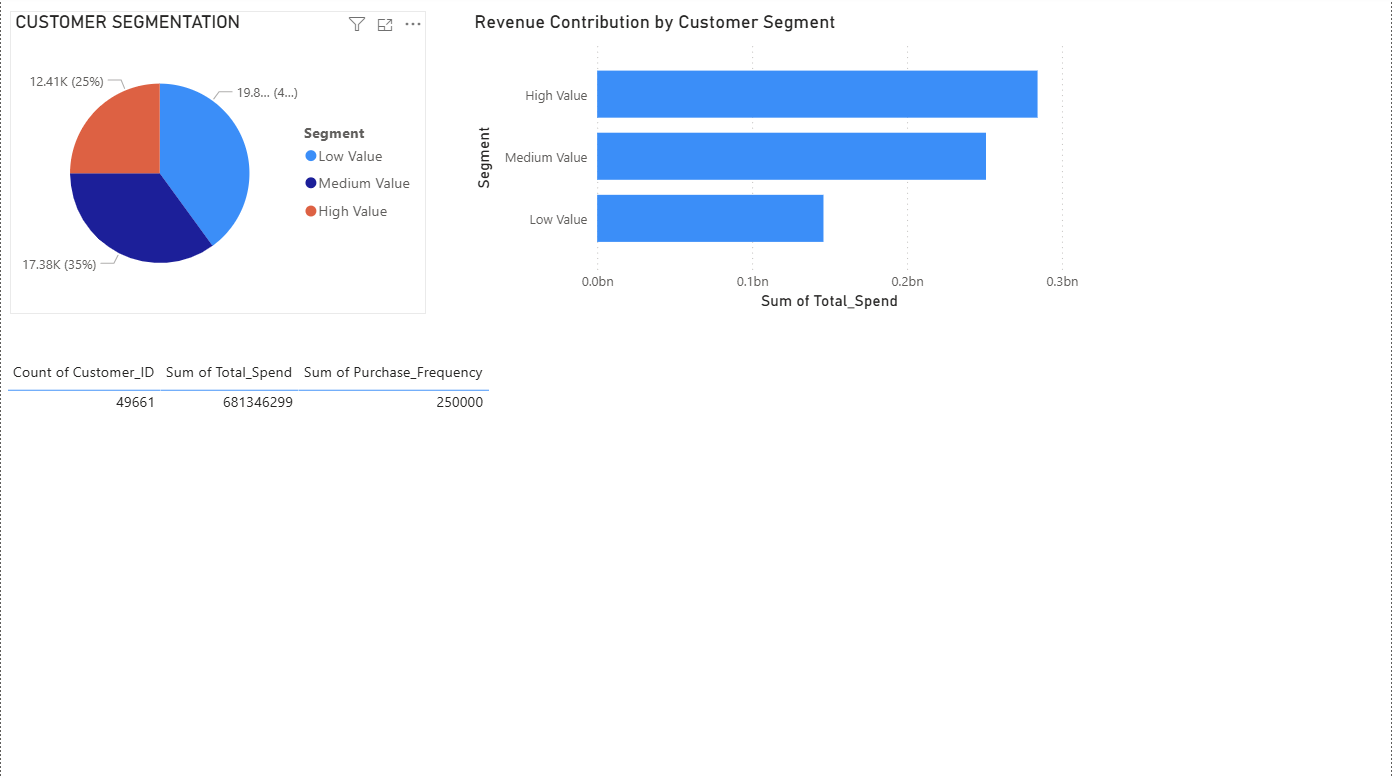

The dashboard page shown, as its layout file describes it:
{"tool":"powerbi","page":{"name":"Customer Segmentation","canvas":[1280,720],"ordinal":1},"visuals":[{"type":"pieChart","title":"CUSTOMER SEGMENTATION","fields":{"Category":["customer_analysis.Segment"],"Y":["Count(customer_analysis.Customer_ID)"]},"box":[8.2,13.4,382.8,279.9],"z":0},{"type":"clusteredBarChart","title":"Revenue Contribution by Customer Segment","fields":{"Category":["customer_analysis.Segment"],"Y":["Sum(customer_analysis.Total_Spend)"]},"box":[431.1,13.4,565.9,279.9],"z":1000},{"type":"tableEx","fields":{"Values":["CountNonNull(customer_analysis.Customer_ID)","Sum(customer_analysis.Total_Spend)","Sum(customer_analysis.Purchase_Frequency)"]},"box":[0,330.3,464.1,279.9],"z":2000}]}

Visuals, with their boxes in screenshot pixels (x1, y1, x2, y2), scaled from the page's 1280x720 canvas onto the 1392x777 screenshot:
"CUSTOMER SEGMENTATION" pieChart: Rect(9, 14, 425, 317)
"Revenue Contribution by Customer Segment" clusteredBarChart: Rect(469, 14, 1084, 317)
tableEx - CountNonNull(customer_analysis.Customer_ID) x Sum(customer_analysis.Total_Spend): Rect(0, 356, 505, 659)
